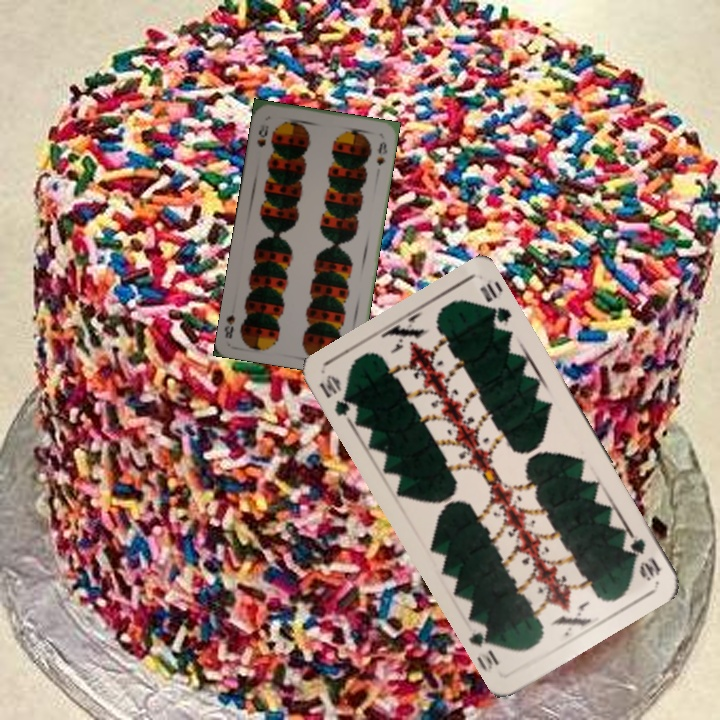G10: (314, 370, 361, 427), (620, 527, 664, 583)
S8: (253, 121, 271, 150)
